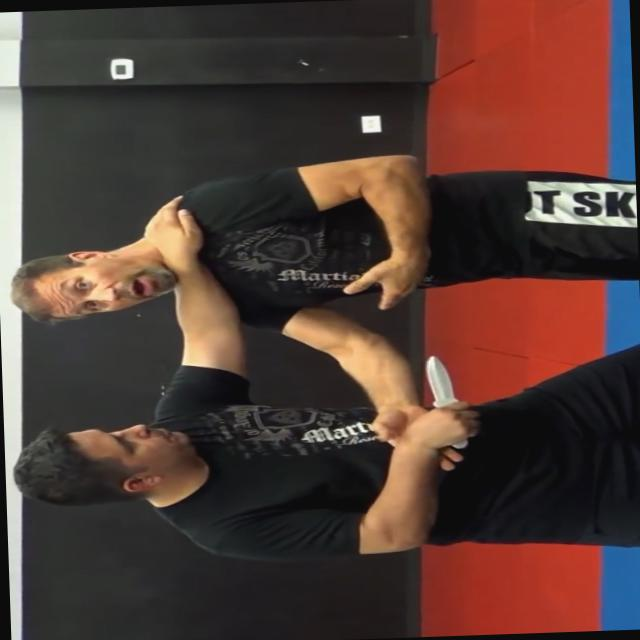knife: (418, 350, 479, 450)
